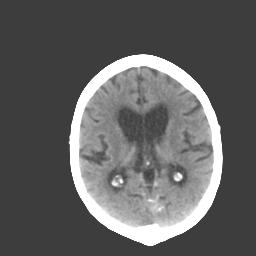ischemic: (175, 134, 193, 161)
